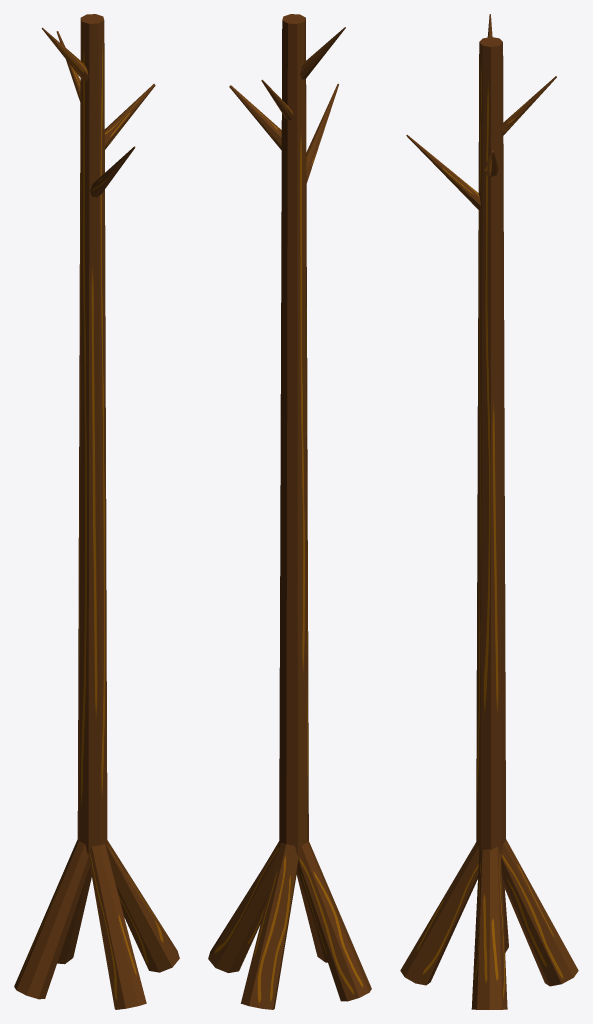
File: cabideiro.fbx
3 views of the same model, side by side, from view 1: azimuth 30°, elevation 25°; view 2: azimuth 150°, elevation 25°; view 3: azimuth 270°, elevation 25° (orthographic). The views are drawn at different scales.
Visible parts, largest first — view 1: Cylinder; view 2: Cylinder; view 3: Cylinder.
Part boxes in pixels (box(x1,y1,x2,y2)): Cylinder: box(14, 14, 179, 1009); Cylinder: box(208, 14, 371, 1009); Cylinder: box(400, 14, 578, 1009).
Size of the model in its own units: 98.07 by 568 by 97.19.
Materials: 1 (1 with a texture image).
